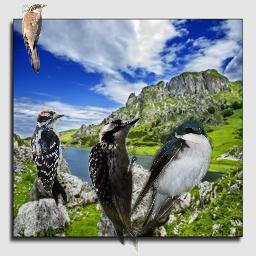Cuckoo: (22, 4, 47, 73)
Swallow: (129, 116, 215, 230)
Woodpecker: (83, 110, 147, 252), (29, 110, 67, 207)
